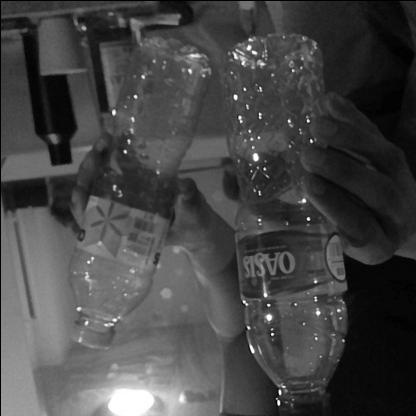plastic_bottles: (224, 38, 344, 408), (70, 43, 210, 342)
